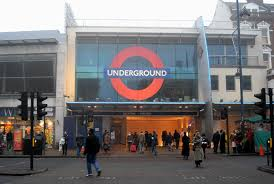London Underground: (108, 47, 170, 97)
